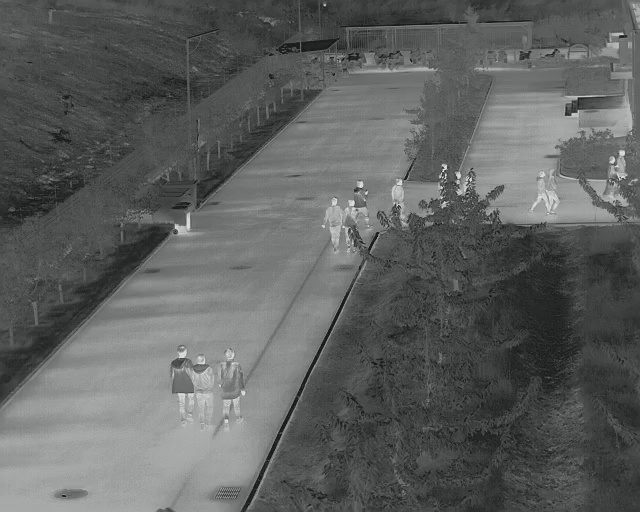person: (215, 349, 246, 426), (170, 343, 194, 427), (190, 352, 215, 430), (351, 178, 373, 228), (323, 196, 342, 252), (530, 168, 549, 212), (544, 166, 561, 212), (344, 199, 358, 252), (604, 156, 616, 198), (391, 177, 404, 209), (616, 148, 627, 182)
